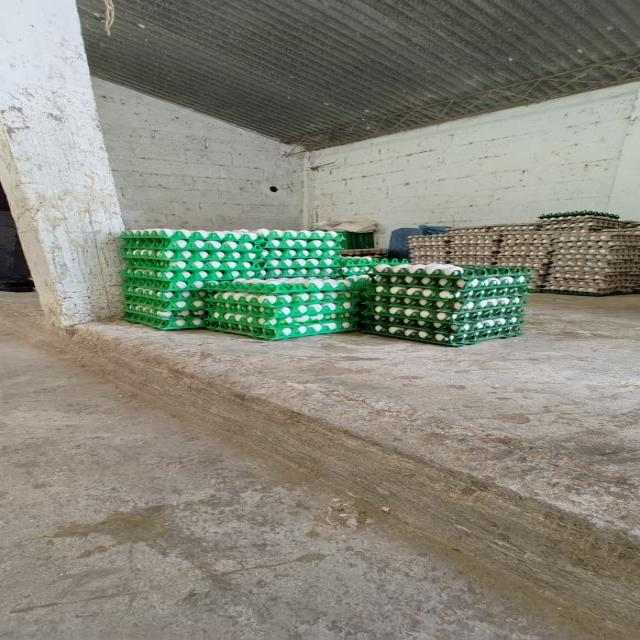egg_tray: (122, 229, 263, 328), (123, 229, 263, 328), (363, 264, 528, 346), (123, 230, 338, 289), (499, 216, 637, 294), (363, 282, 525, 346), (209, 278, 355, 340), (122, 230, 208, 330), (362, 294, 522, 344), (122, 230, 263, 281), (545, 230, 639, 294), (374, 264, 530, 300), (362, 292, 526, 326), (207, 291, 354, 326), (207, 292, 353, 326), (208, 276, 365, 307), (372, 280, 527, 310), (124, 276, 206, 329), (124, 250, 260, 281), (256, 230, 341, 278), (361, 321, 521, 346), (123, 232, 262, 260), (125, 282, 206, 329), (122, 261, 261, 288), (497, 231, 555, 290), (208, 303, 352, 326), (121, 229, 263, 252), (124, 291, 206, 330), (209, 319, 356, 340), (122, 248, 261, 270), (207, 288, 357, 308), (123, 241, 261, 262), (120, 228, 262, 248), (217, 276, 368, 294), (545, 268, 639, 294), (376, 264, 527, 280), (554, 232, 639, 259), (554, 235, 639, 262), (550, 258, 639, 283), (125, 302, 206, 328), (263, 230, 342, 256), (261, 252, 339, 278), (121, 245, 209, 268), (124, 284, 206, 308), (554, 256, 639, 279), (500, 234, 552, 271), (125, 292, 205, 316), (545, 274, 638, 294), (552, 253, 639, 274), (123, 267, 207, 288), (255, 228, 342, 248), (448, 232, 499, 265), (545, 277, 638, 295), (559, 228, 639, 248), (125, 310, 203, 330), (124, 272, 206, 291), (262, 258, 339, 278), (554, 258, 639, 276), (554, 245, 639, 262), (537, 216, 627, 232), (339, 256, 409, 276), (500, 232, 555, 257), (261, 260, 336, 278), (264, 250, 338, 268), (554, 246, 638, 261), (121, 228, 207, 241), (410, 236, 451, 263), (448, 234, 498, 256), (500, 255, 550, 277), (505, 258, 549, 282), (499, 245, 549, 266), (587, 226, 639, 246), (264, 248, 338, 262), (446, 247, 498, 266), (539, 210, 619, 221), (541, 221, 620, 232), (446, 230, 500, 246), (500, 256, 550, 272), (409, 244, 451, 262), (410, 242, 449, 261), (409, 236, 448, 255), (499, 252, 550, 266), (341, 256, 378, 275), (408, 235, 448, 252), (444, 225, 495, 238), (445, 225, 495, 238), (408, 230, 453, 244), (526, 264, 547, 292), (449, 254, 497, 266), (409, 231, 452, 244), (341, 248, 387, 260), (485, 222, 538, 232), (410, 251, 450, 263), (411, 252, 450, 263), (306, 232, 325, 254), (342, 256, 382, 266), (340, 266, 372, 276), (125, 285, 153, 291), (276, 232, 298, 239), (180, 290, 205, 294), (385, 260, 408, 264), (412, 257, 427, 263), (126, 286, 142, 290), (614, 222, 624, 226), (585, 234, 594, 238), (233, 236, 241, 240), (131, 308, 140, 310), (154, 242, 162, 244), (169, 242, 175, 244), (195, 313, 201, 315), (498, 322, 504, 324), (487, 324, 492, 326), (317, 271, 321, 273), (261, 230, 265, 232), (477, 326, 481, 328), (422, 262, 428, 263), (302, 254, 305, 256), (154, 313, 157, 314), (638, 237, 639, 239), (375, 318, 377, 319), (512, 234, 514, 235), (220, 239, 221, 239), (336, 252, 336, 252), (437, 261, 438, 261), (492, 283, 492, 283), (512, 322, 512, 323), (530, 234, 534, 234), (520, 234, 522, 234), (566, 261, 568, 261)
